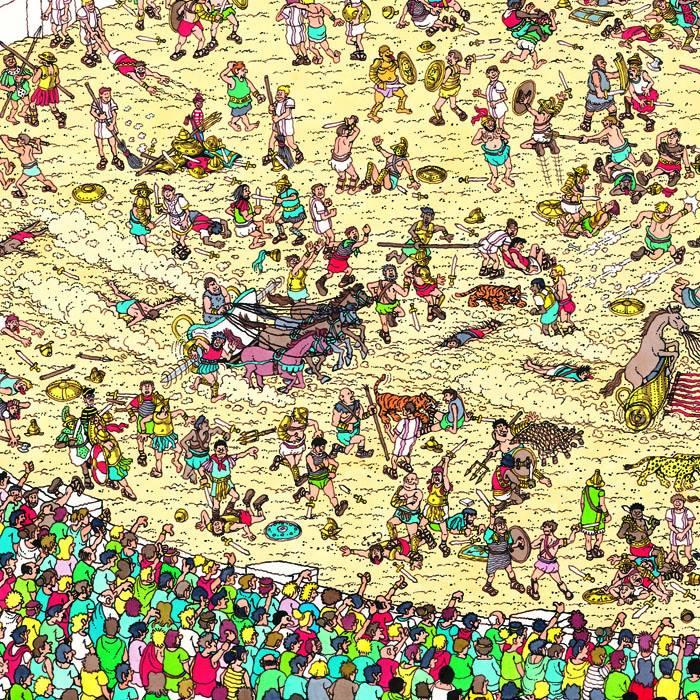waldo: (190, 89, 208, 133)
